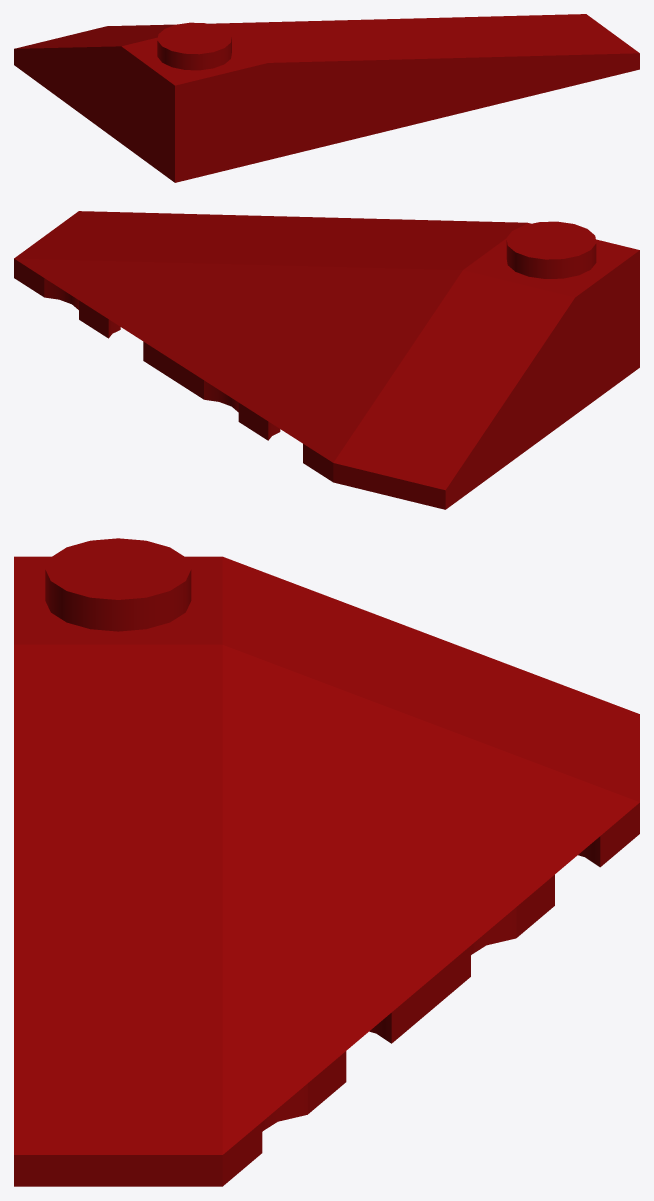
The model's file is SM_CornerRamp_5x3x1_L.gltf.
3 renders of one model, top to bottom at view 1: azimuth 30°, elevation 25°; view 2: azimuth 150°, elevation 25°; view 3: azimuth 270°, elevation 25°, orthographic. The views are drawn at different scales.
Parts seen in each view (by area): view 1: SM_CornerRamp_5x3x1_L; view 2: SM_CornerRamp_5x3x1_L; view 3: SM_CornerRamp_5x3x1_L.
Boxes of the visible parts, bbox=[...] form: SM_CornerRamp_5x3x1_L: bbox=[14, 14, 639, 182]; SM_CornerRamp_5x3x1_L: bbox=[14, 211, 639, 509]; SM_CornerRamp_5x3x1_L: bbox=[14, 538, 639, 1186].
Size of the model in its own units: 1.5 by 0.35 by 0.9.
